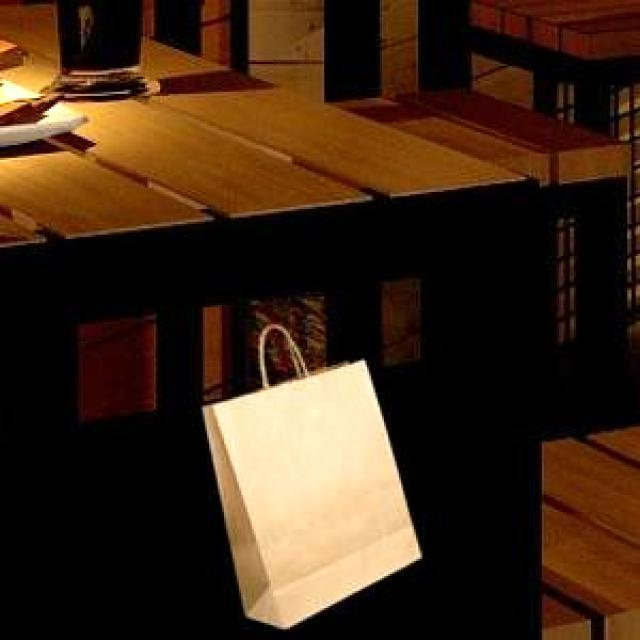Paper_Bag: (200, 323, 418, 626)
